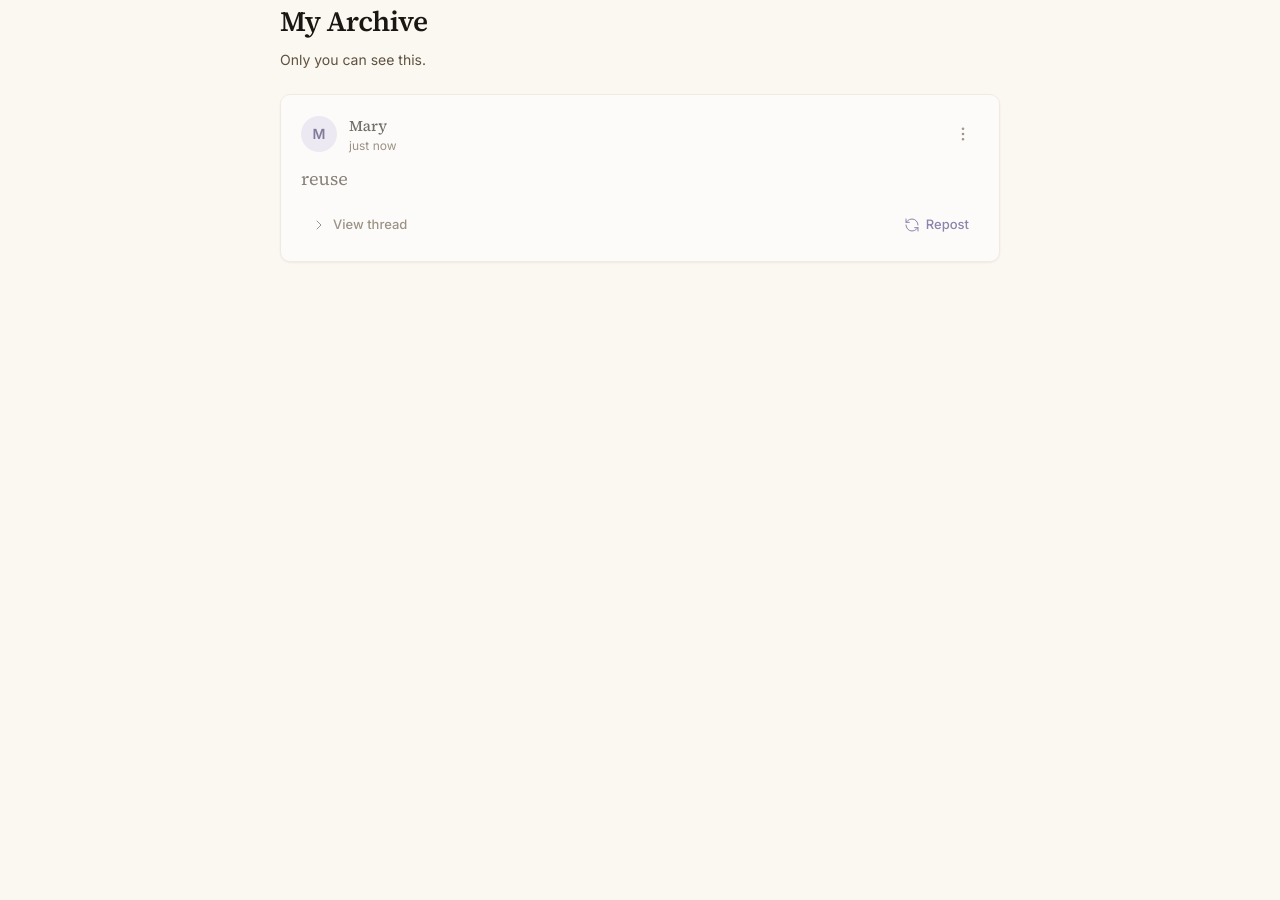
Scenario: MyArchivePage › Repost with a non-empty draft opens the discard confirm dialog
The width and height of the screenshot is (1280, 900).
expect the text "reuse" is shown: met, box x1=301 y1=166 x2=348 y2=190
Click the button named "more actions" at (963, 134), box x1=947 y1=118 x2=979 y2=150
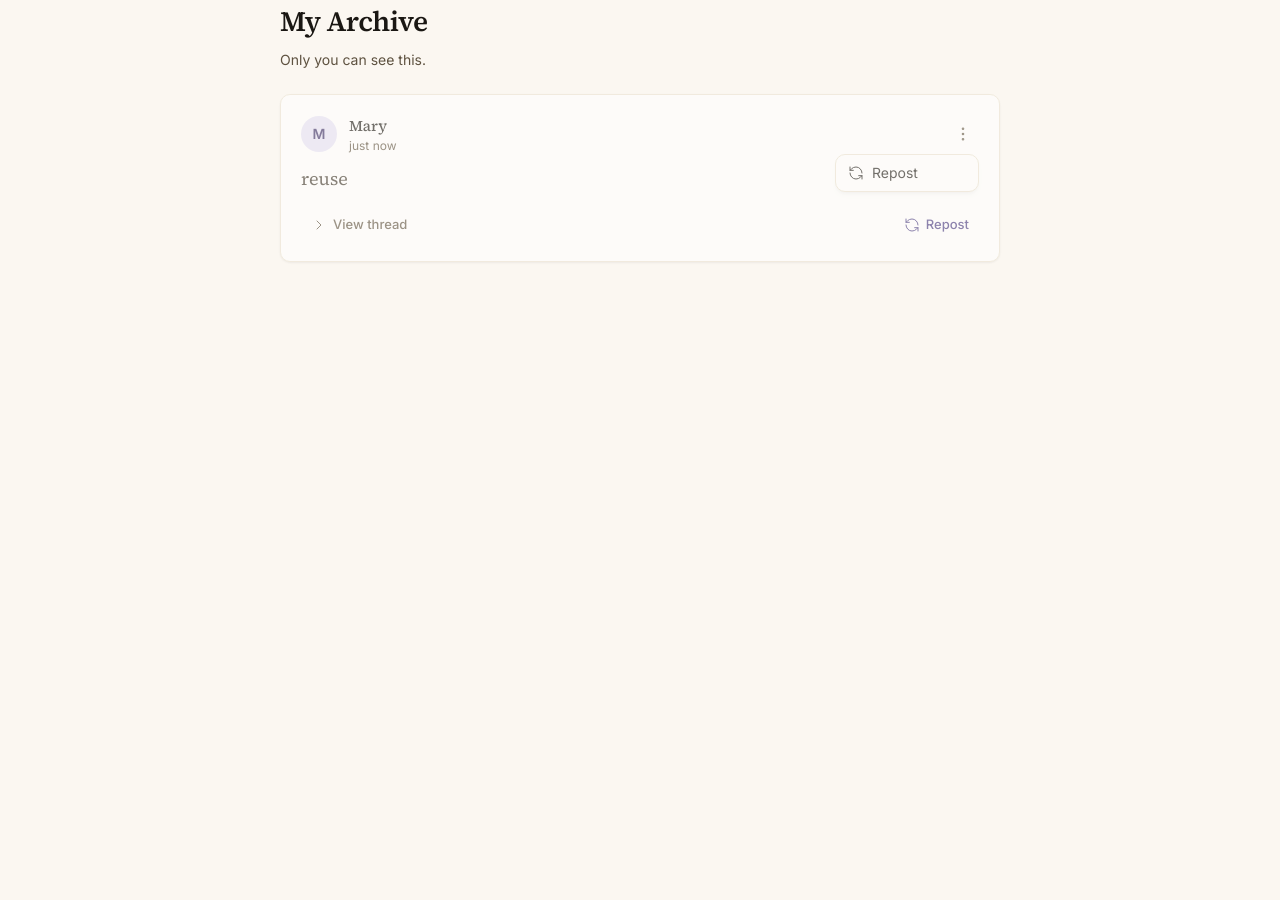
Click the menu item "Repost" at (907, 173), box x1=836 y1=155 x2=978 y2=191
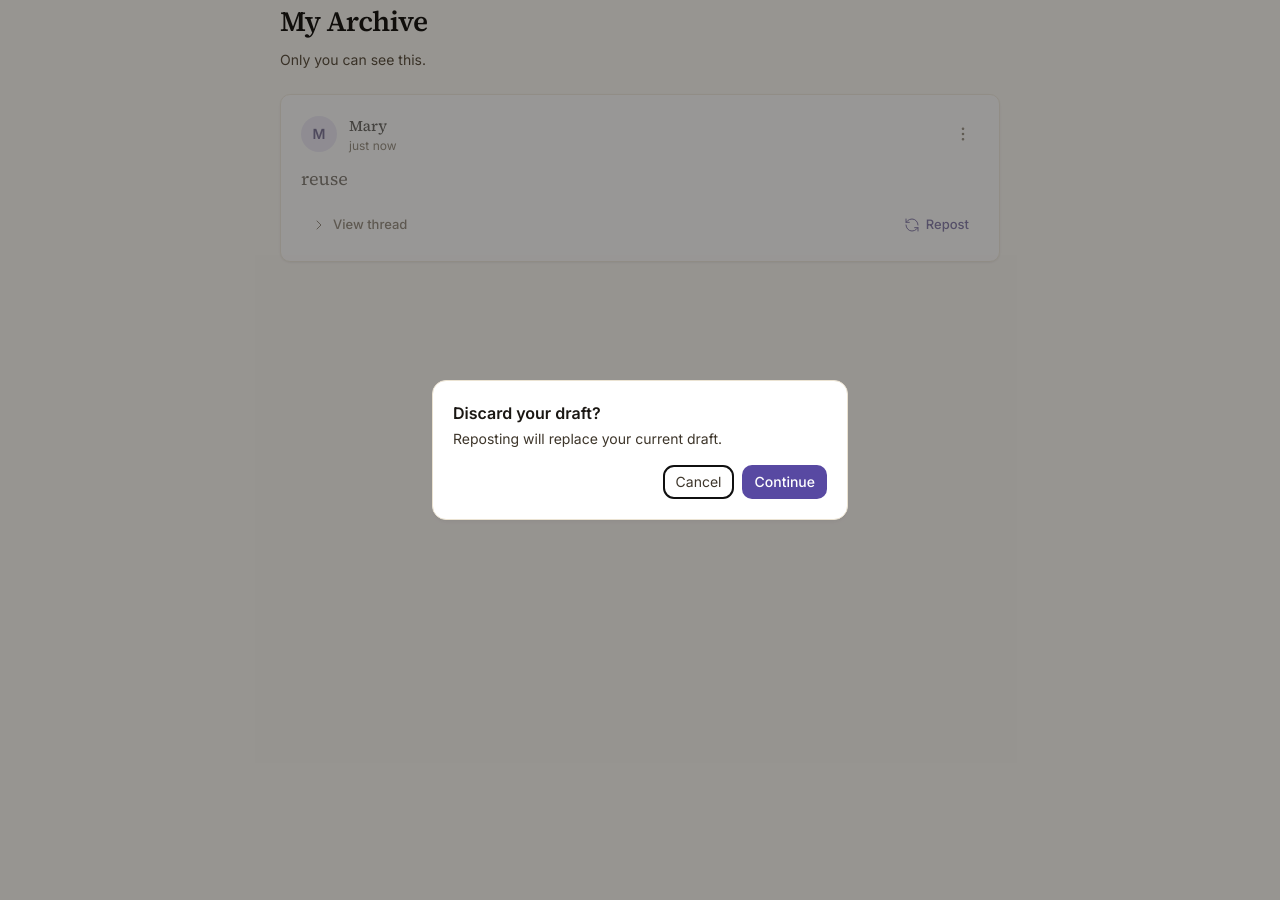
expect the dialog "Discard your draft" is shown: met, box x1=432 y1=380 x2=848 y2=520
